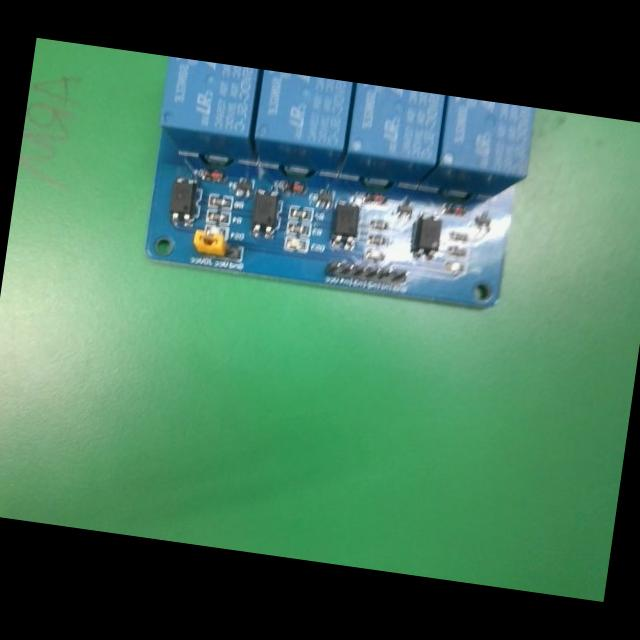relay_module: (138, 56, 538, 314)
